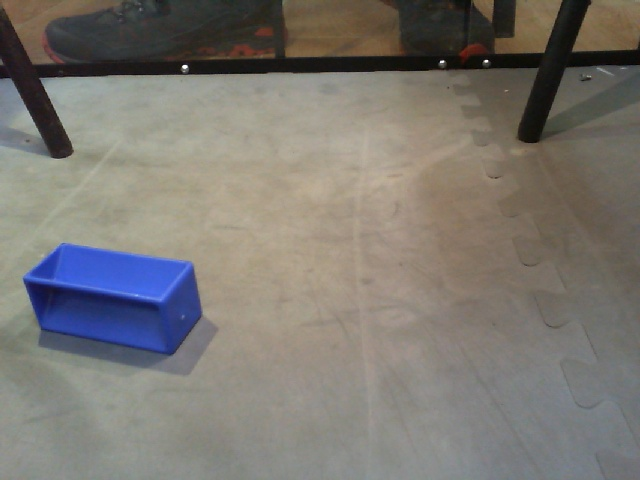BlueSample: (24, 239, 208, 359)
